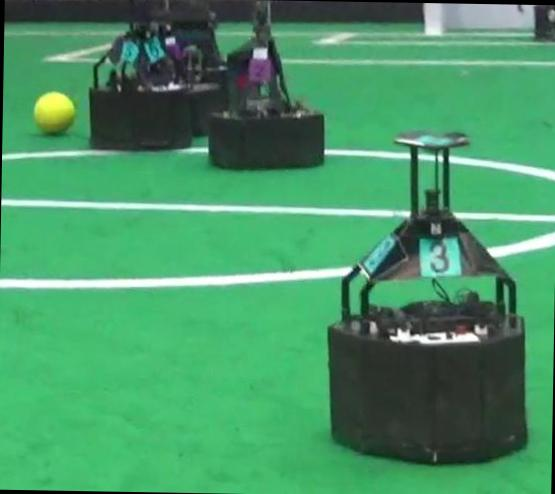ball: (33, 91, 73, 133)
goal: (423, 3, 442, 34)
robot: (328, 131, 525, 462), (208, 0, 323, 168), (89, 0, 192, 149), (149, 0, 226, 135)
